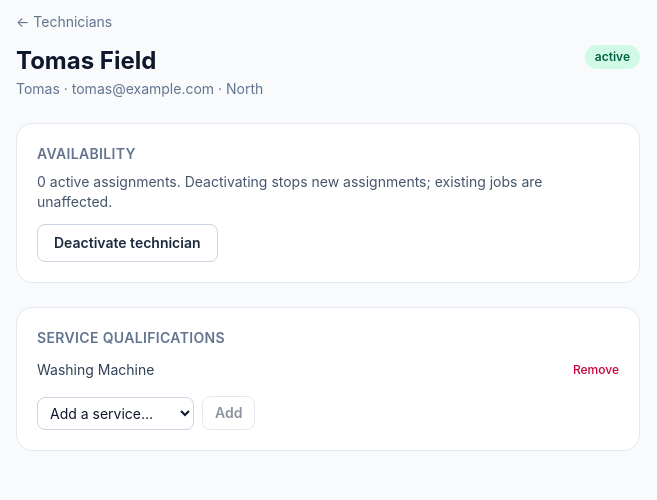
Test: OperationsTechnicianDetailPage › surfaces a duplicate-qualification 409
This screenshot has width=657, height=500.
Expected: the heading "Tomas Field" is shown, 16,46 -> 156,75
Select "Wi-Fi Mesh Setup" in the dropdown named "service to add": (116, 413) 37,396 -> 194,430
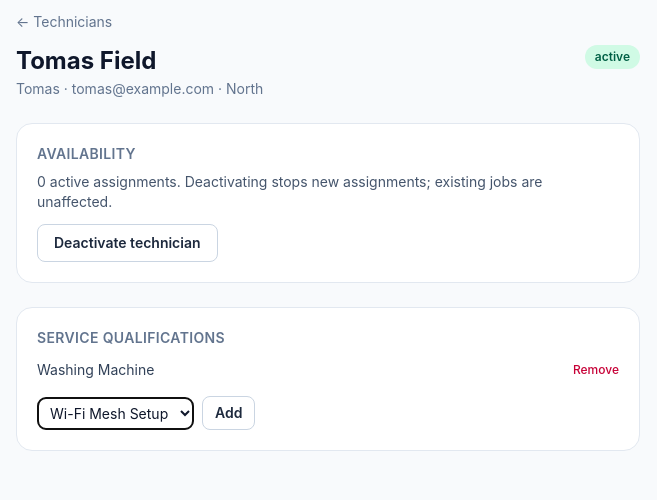
Click the button "Add": (229, 413) 202,396 -> 256,430
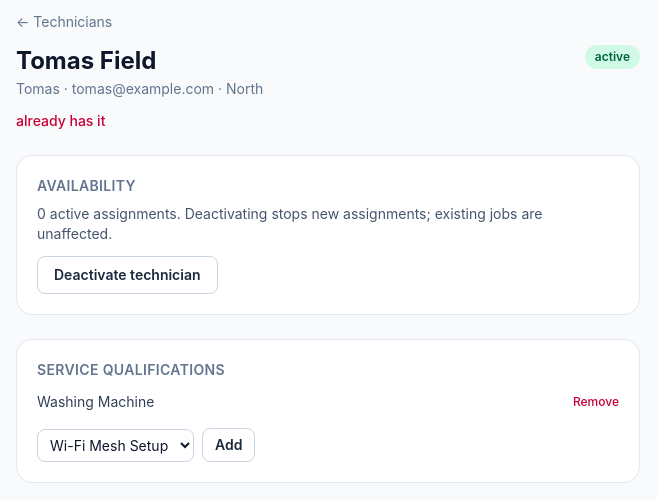
Expected: the message reads "already has it", 16,112 -> 105,129
